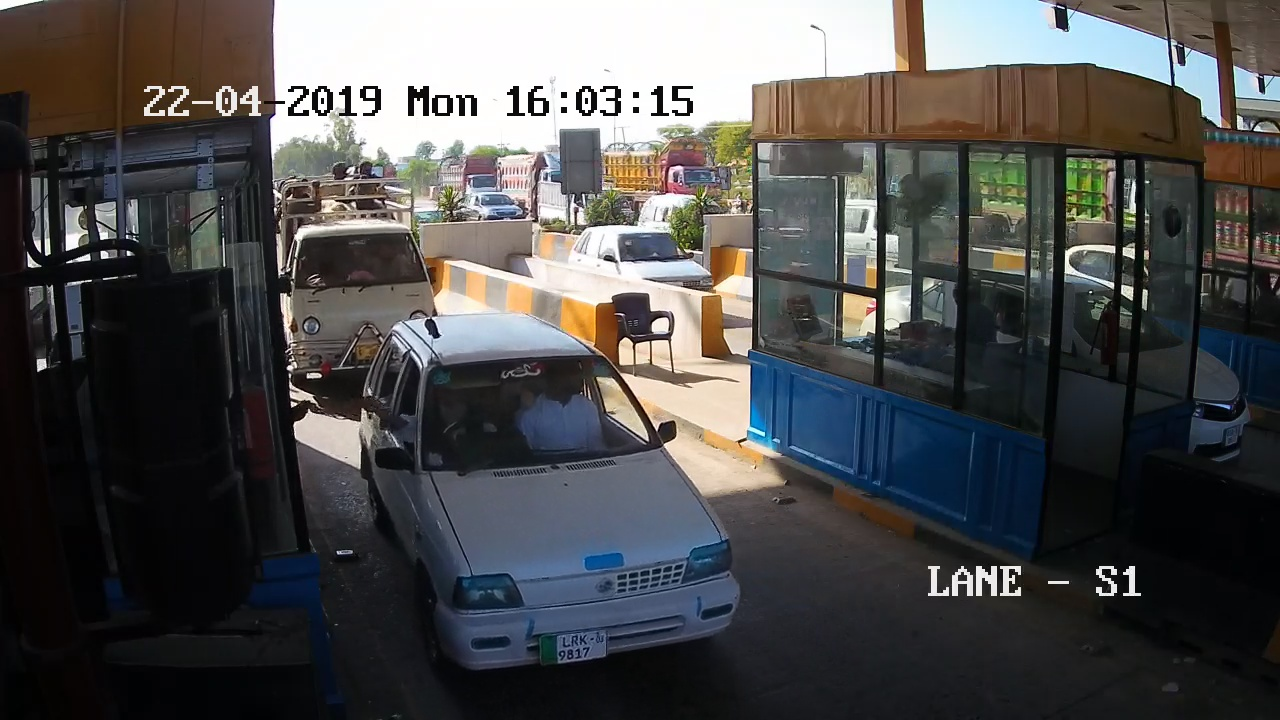Number Plate (Car): (537, 629, 608, 665), (358, 346, 376, 359)
